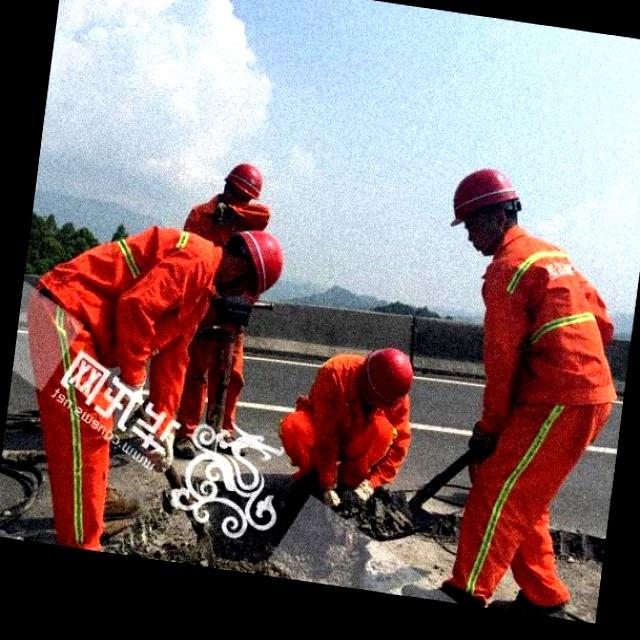helmet: (443, 166, 525, 228), (236, 228, 284, 294), (367, 344, 418, 404), (220, 162, 270, 200)
safety_vest: (36, 220, 228, 407), (476, 228, 622, 438), (309, 352, 395, 476)
